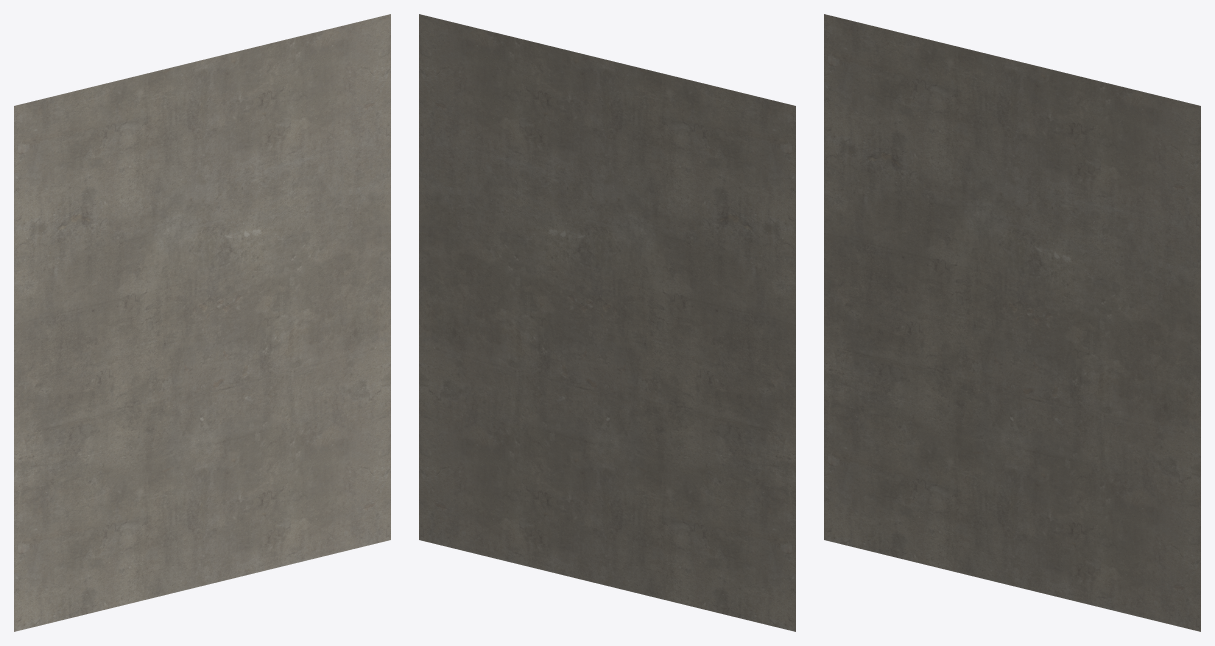
File: Wall_3m-4m.fbx
The picture shows the model from 3 angles, left to right: view 1: azimuth 30°, elevation 25°; view 2: azimuth 150°, elevation 25°; view 3: azimuth 330°, elevation 25°; orthographic projection.
Visible parts, largest first — view 1: Wall_3m; view 2: Wall_3m; view 3: Wall_3m.
Part boxes in pixels (bbox=[...]): Wall_3m: bbox=[14, 14, 390, 631]; Wall_3m: bbox=[419, 14, 795, 631]; Wall_3m: bbox=[824, 14, 1200, 631].
Bounding box in the file's own units: 300 × 400 × 5.25e-05.
Materials: 1 (1 with a texture image).
